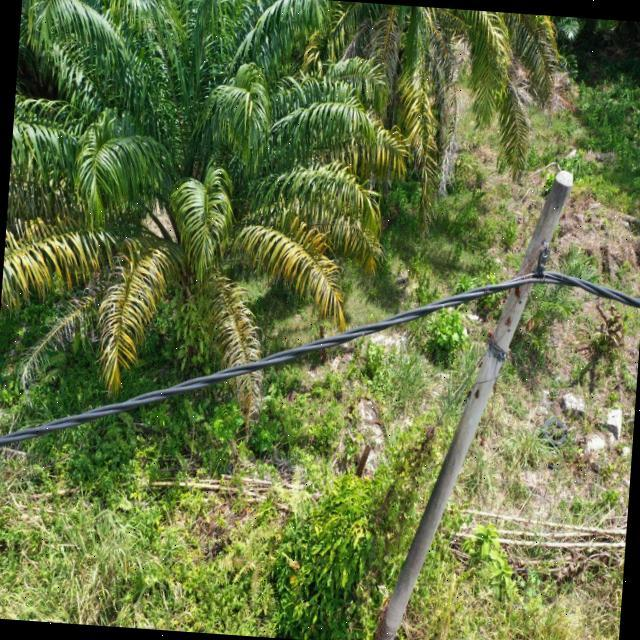critical vegetation: (284, 408, 442, 624)
